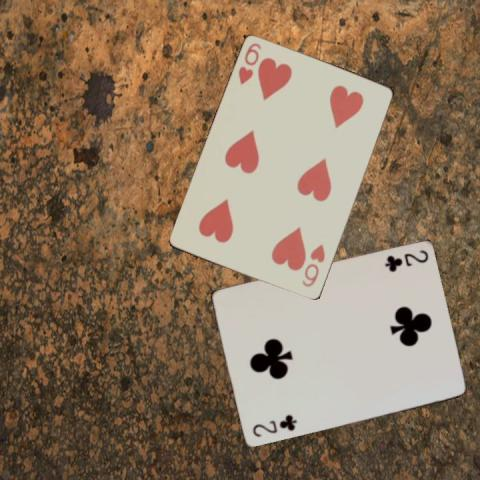2c: (249, 412, 298, 439), (382, 248, 429, 274)
6h: (298, 241, 326, 289), (236, 40, 264, 87)
